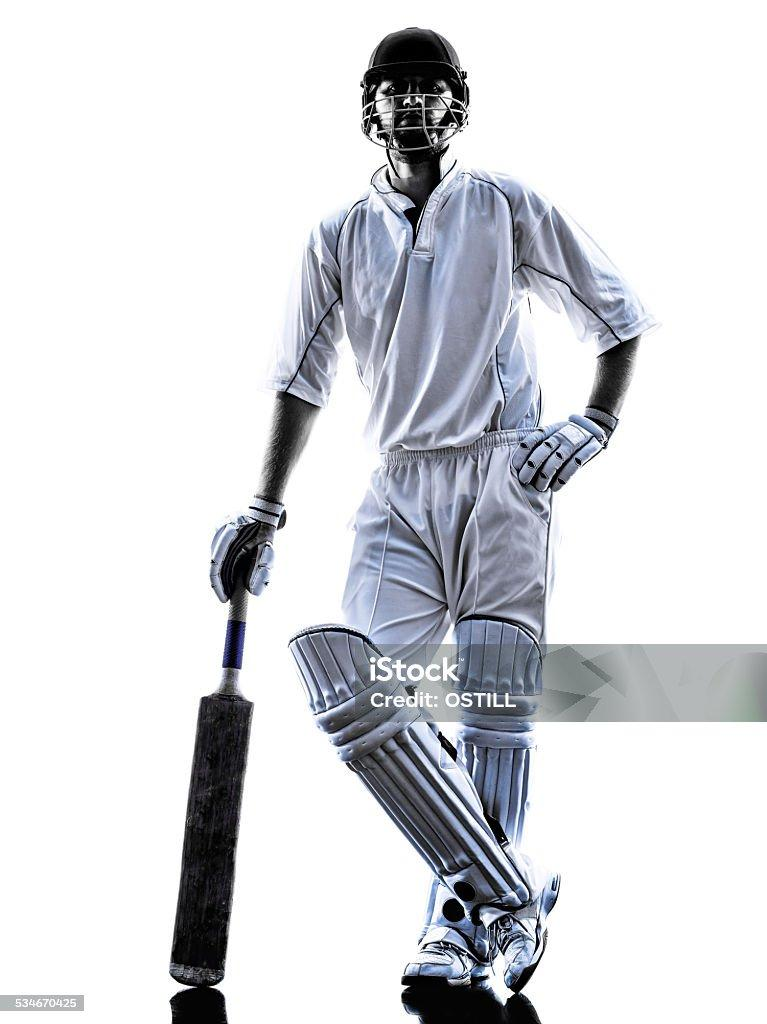batsman: (154, 26, 690, 980)
